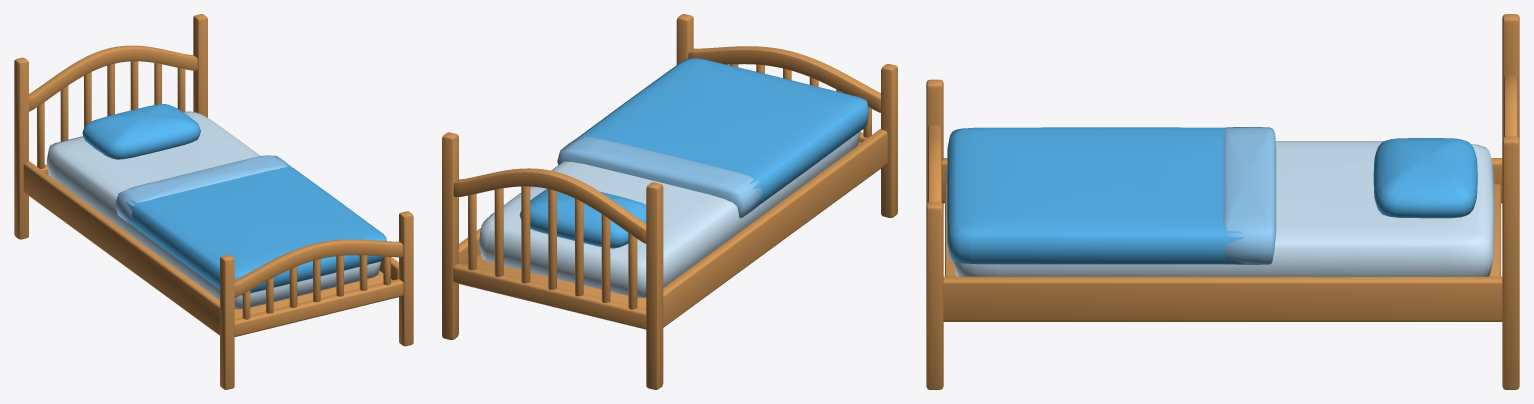
File: cama_solteiro_ripas_arco_madeira.glb
3 views of the same model, side by side, from view 1: azimuth 30°, elevation 25°; view 2: azimuth 150°, elevation 25°; view 3: azimuth 270°, elevation 25° (orthographic). The views are drawn at different scales.
Visible parts, largest first — view 1: cama_solteiro_ripas_arco_madeira; view 2: cama_solteiro_ripas_arco_madeira; view 3: cama_solteiro_ripas_arco_madeira.
Part boxes in pixels (x1,y1,x2,y2): cama_solteiro_ripas_arco_madeira: (14, 14, 413, 389); cama_solteiro_ripas_arco_madeira: (442, 14, 897, 389); cama_solteiro_ripas_arco_madeira: (926, 14, 1519, 389).
Size of the model in its own units: 1.06 by 0.95 by 2.05.
1 material, 1 textured.
